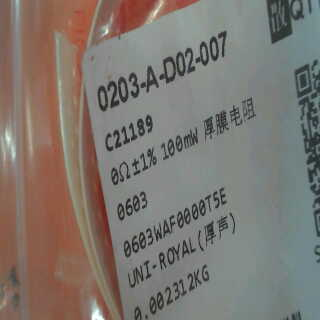0R: (108, 147, 164, 220)
